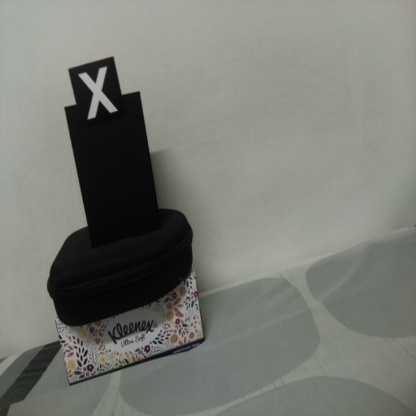id_13: (68, 65, 123, 127)
